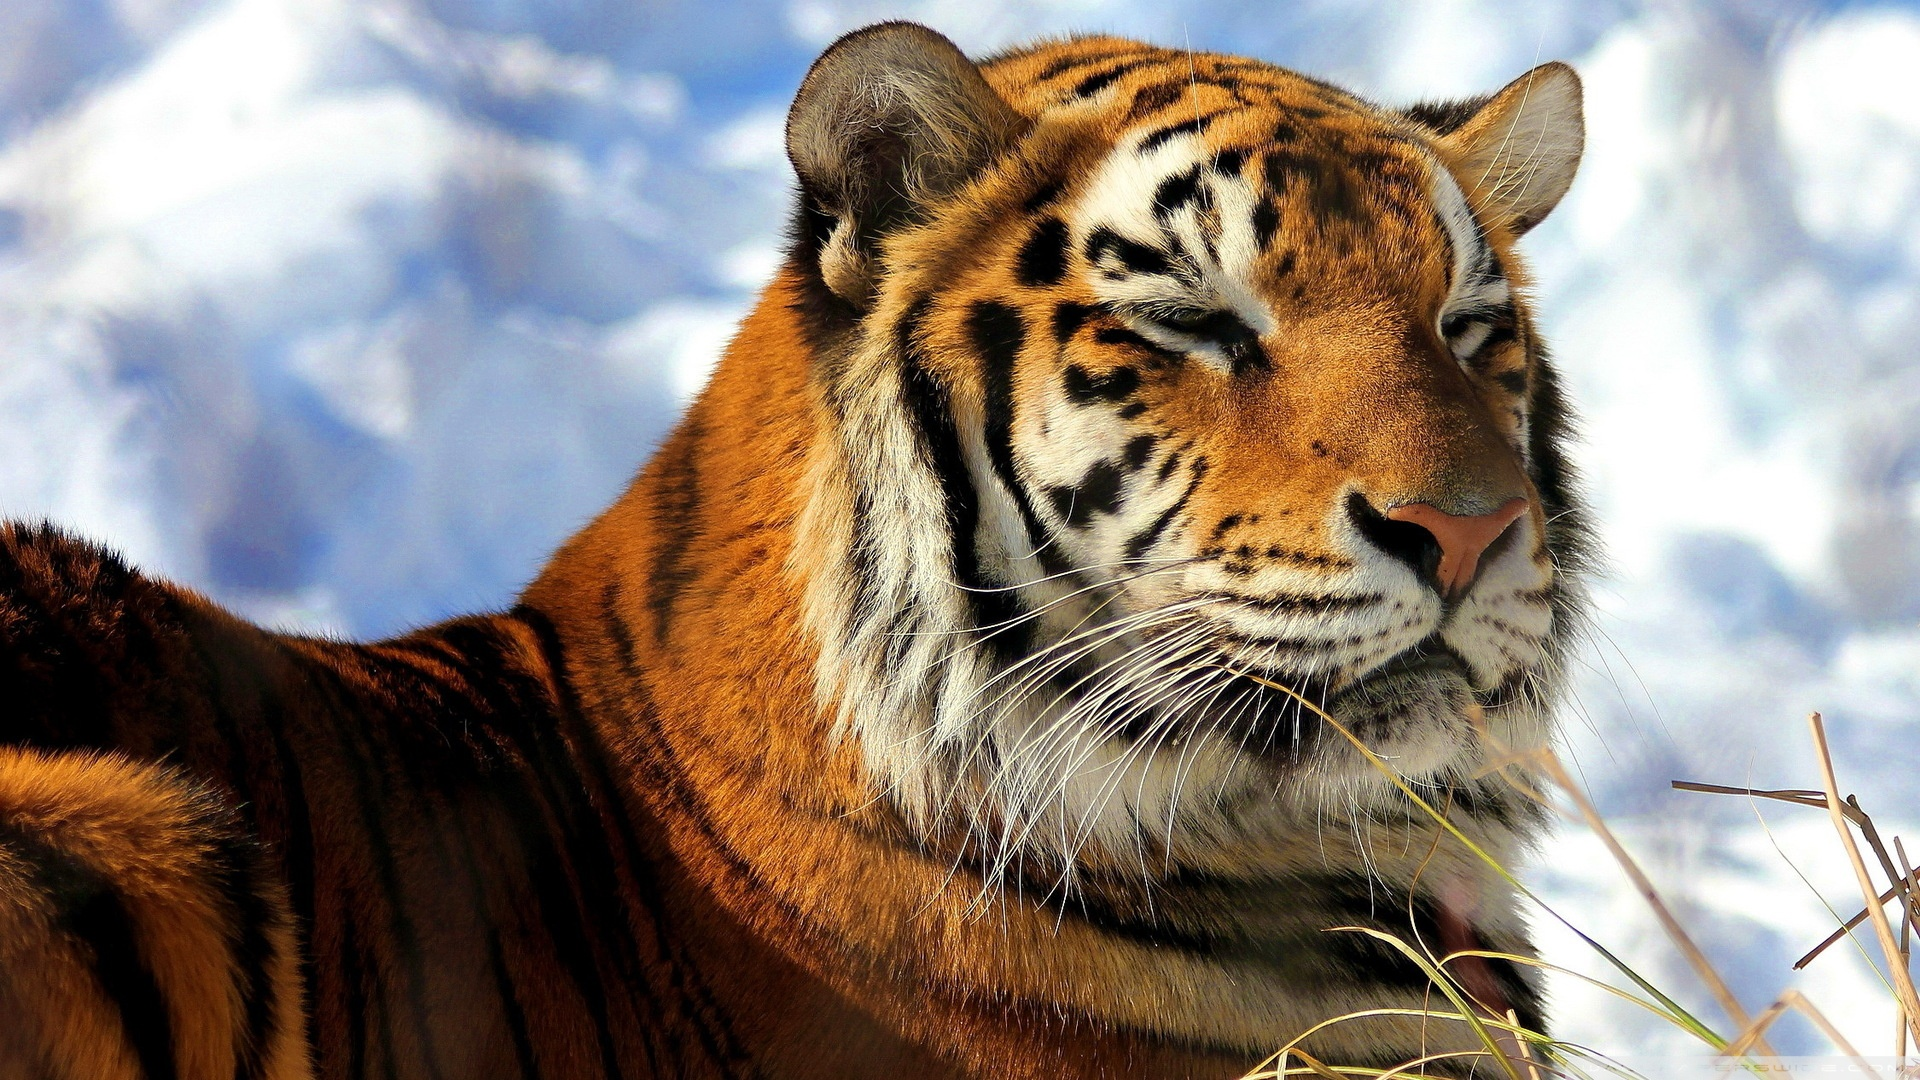tiger: (38, 37, 1613, 1076)
